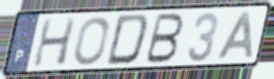3: (187, 11, 220, 63)
A: (215, 11, 255, 61)
B: (143, 12, 186, 65)
D: (104, 12, 151, 67)
H: (31, 16, 79, 69)
O: (72, 15, 111, 67)
